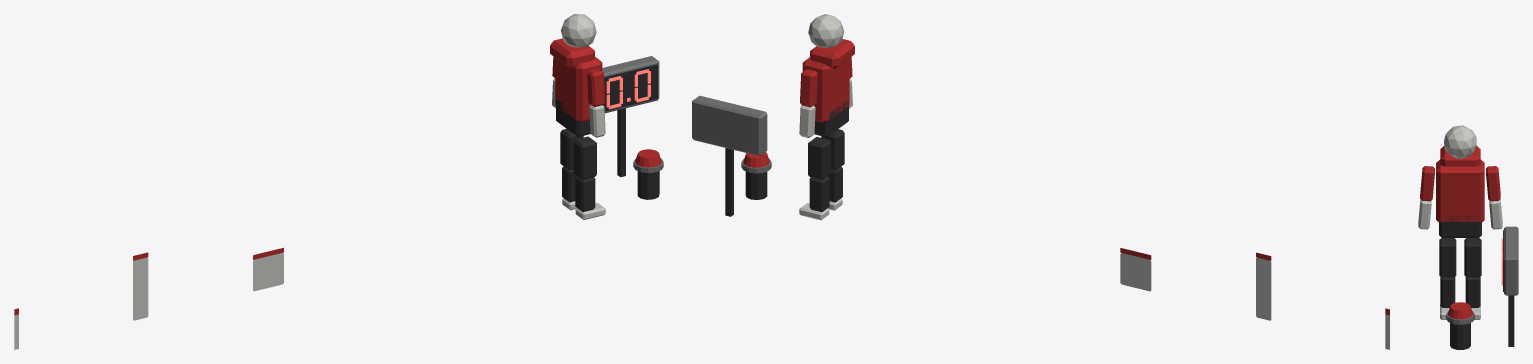
Rendered from tagrun.glb.
3 renders of one model, left to right at view 1: azimuth 30°, elevation 25°; view 2: azimuth 150°, elevation 25°; view 3: azimuth 270°, elevation 25°, orthographic. The views are drawn at different scales.
Parts seen in each view (by area): view 1: tagrun_clock, runner_torso, tagrun_popup_0, tagrun_popup_1, runner_head, runner_thigh_-1, tagrun_button_stand, runner_shin_-1, runner_arm_-1, runner_pelvis, runner_thigh_1; view 2: tagrun_clock, runner_torso, tagrun_popup_0, tagrun_popup_1, runner_head, runner_thigh_1, tagrun_button_stand, runner_shin_1, runner_pelvis, runner_arm_1, runner_thigh_-1; view 3: runner_torso, tagrun_clock, runner_head, runner_pelvis, tagrun_button_stand, runner_thigh_1, runner_thigh_-1, runner_shin_-1, runner_shin_1, runner_arm_1, runner_arm_-1, tagrun_button (+2 smaller).
Part boxes in pixels (x1,y1,x2,y2): tagrun_clock: (602, 56, 659, 177); runner_torso: (550, 38, 602, 122); tagrun_popup_0: (253, 247, 283, 291); tagrun_popup_1: (133, 252, 148, 320); runner_head: (560, 14, 596, 47); runner_thigh_-1: (573, 136, 596, 179); tagrun_button_stand: (633, 158, 663, 199); runner_shin_-1: (575, 176, 595, 211); runner_arm_-1: (587, 69, 604, 106); runner_pelvis: (556, 99, 590, 136); runner_thigh_1: (560, 128, 583, 170); tagrun_clock: (692, 95, 767, 216); runner_torso: (802, 39, 854, 122); tagrun_popup_0: (1120, 248, 1151, 291); tagrun_popup_1: (1256, 252, 1271, 320); runner_head: (808, 14, 843, 47); runner_thigh_1: (808, 137, 831, 179); tagrun_button_stand: (741, 159, 771, 199); runner_shin_1: (809, 176, 829, 212); runner_pelvis: (814, 99, 848, 137); runner_arm_1: (800, 69, 817, 107); runner_thigh_-1: (821, 129, 844, 170); runner_torso: (1436, 145, 1484, 222); tagrun_clock: (1503, 226, 1518, 346); runner_head: (1444, 125, 1476, 158); runner_pelvis: (1439, 216, 1481, 237); tagrun_button_stand: (1446, 311, 1474, 349); runner_thigh_1: (1464, 238, 1481, 277); runner_thigh_-1: (1439, 238, 1456, 277); runner_shin_-1: (1440, 276, 1455, 307); runner_shin_1: (1465, 276, 1480, 307); runner_arm_1: (1486, 166, 1500, 201); runner_arm_-1: (1420, 166, 1434, 201); tagrun_button: (1448, 302, 1472, 319).
Bounding box in the file's own units: 1.73 × 0.486 × 0.2372.
